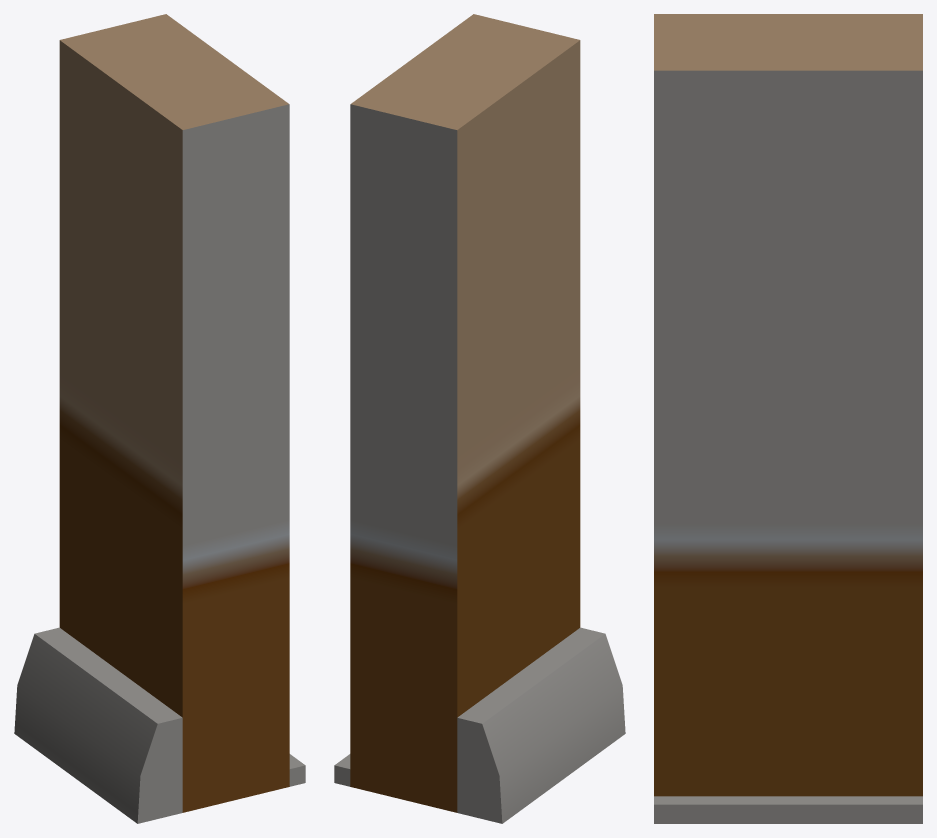
The model's file is SM_Wall_Short_NoTop.fbx.
3 renders of one model, left to right at view 1: azimuth 30°, elevation 25°; view 2: azimuth 150°, elevation 25°; view 3: azimuth 270°, elevation 25°, orthographic. The views are drawn at different scales.
Visible parts, largest first — view 1: SM_Wall_Short_NoTop; view 2: SM_Wall_Short_NoTop; view 3: SM_Wall_Short_NoTop.
Part boxes in pixels (x1,y1,x2,y2): SM_Wall_Short_NoTop: (14,14,305,823); SM_Wall_Short_NoTop: (334,14,625,823); SM_Wall_Short_NoTop: (654,14,922,823).
Size of the model in its own units: 78.71 by 306 by 100.
